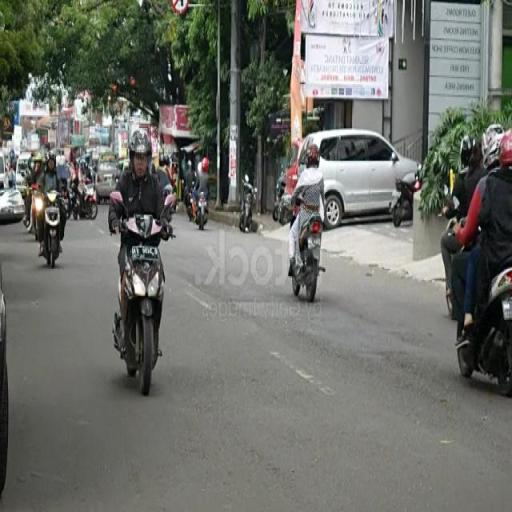Helmet: (484, 134, 503, 171), (483, 124, 503, 155), (129, 130, 151, 157), (460, 136, 473, 168), (500, 130, 511, 167), (307, 144, 319, 167), (47, 152, 55, 170), (202, 157, 209, 172), (32, 153, 43, 162), (188, 160, 191, 167)
Motor: (113, 215, 163, 395), (458, 268, 511, 396), (292, 216, 324, 301), (390, 173, 421, 227), (43, 192, 60, 268), (70, 180, 98, 219), (240, 175, 256, 231), (29, 184, 43, 240), (273, 172, 285, 221), (279, 194, 293, 225), (196, 192, 207, 230), (164, 184, 175, 213), (186, 192, 194, 221)
